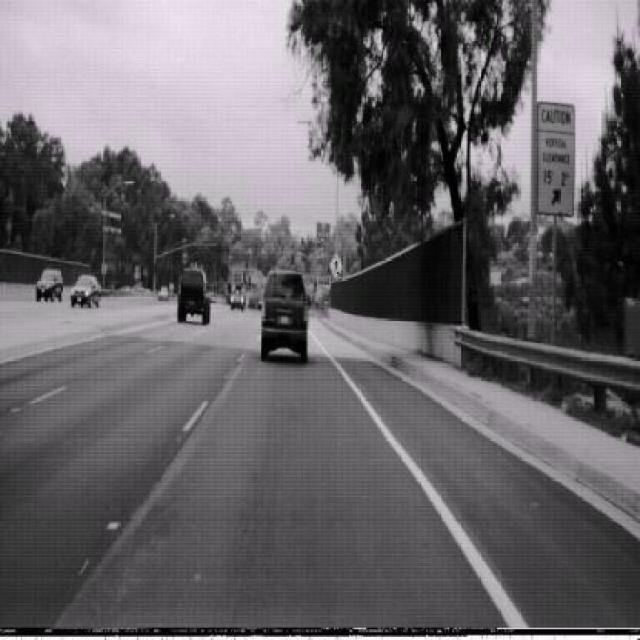pedestrianCrossing: (328, 252, 343, 283)
